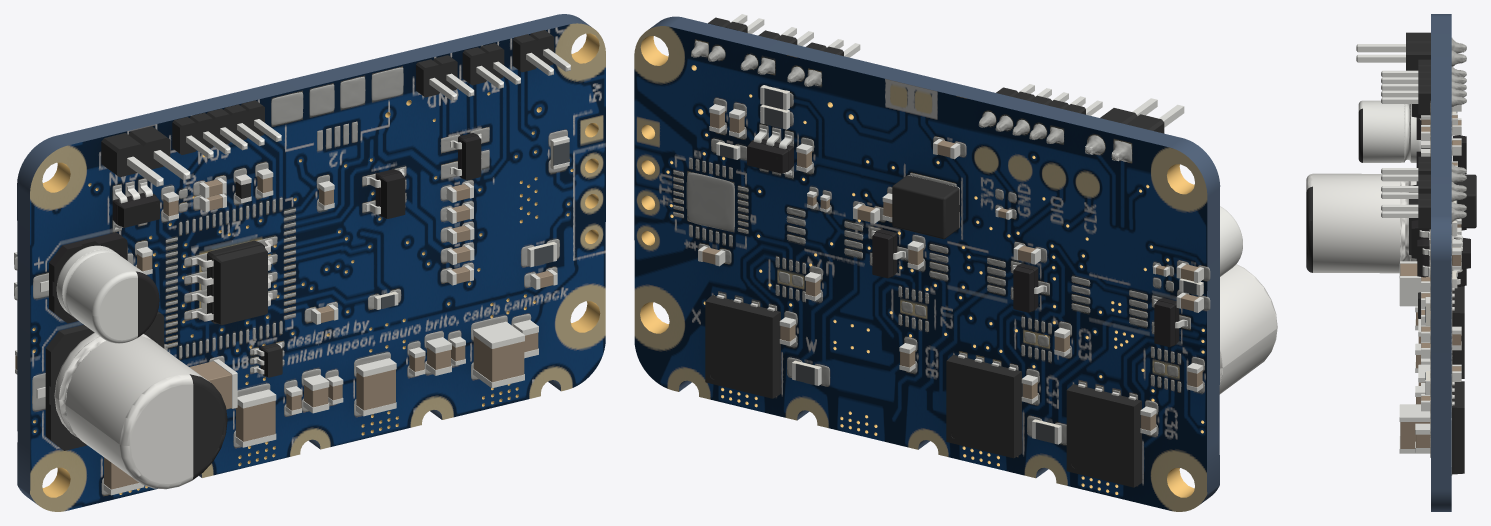
File: final bldc 1.glb
3 renders of one model, left to right at view 1: azimuth 30°, elevation 25°; view 2: azimuth 150°, elevation 25°; view 3: azimuth 270°, elevation 25°, orthographic. The views are drawn at different scales.
Parts seen in each view (by area): view 1: PCB_BLDC 3d, CP_Elec_8x10.001, CP_Elec_5x5.001, SOIC-8_3.9x4.9mm_P1.27mm.001, PinHeader_1x05_P1.27mm_Vertical.001, PinHeader_1x02_P2.00mm_Vertical.001, C_1210_3225Metric.003, C_1210_3225Metric.002, C_1210_3225Metric.005, PinHeader_1x02_P1.27mm_Vertical.003, PinHeader_1x02_P1.27mm_Vertical.001, PinHeader_1x02_P1.27mm_Vertical.002 (+12 smaller); view 2: PCB_BLDC 3d, TDSON-8-1.001, TDSON-8-1.003, TDSON-8-1.002, CP_Elec_8x10.001, L_Wuerth_MAPI-4020.001, SOLDER_TMC2209_LA_U14_71_0, SOT-23-6.001, PinHeader_1x02_P2.00mm_Vertical.001, SOT-23.001, SOT-23.002, SOT-23.003 (+2 smaller); view 3: PCB_BLDC 3d, CP_Elec_8x10.001, CP_Elec_5x5.001, PinHeader_1x05_P1.27mm_Vertical.001, PinHeader_1x02_P2.00mm_Vertical.001, TDSON-8-1.003, C_1210_3225Metric.003, PinHeader_1x02_P1.27mm_Vertical.003, C_1210_3225Metric.001, TDSON-8-1.001, PinHeader_1x02_P1.27mm_Vertical.002, L_Wuerth_MAPI-4020.001 (+9 smaller).
Boxes of the visible parts, box(x1,y1,x2,y2) form: PCB_BLDC 3d: box(17, 14, 605, 511); CP_Elec_8x10.001: box(36, 311, 227, 489); CP_Elec_5x5.001: box(40, 232, 159, 343); SOIC-8_3.9x4.9mm_P1.27mm.001: box(191, 239, 272, 325); PinHeader_1x05_P1.27mm_Vertical.001: box(172, 100, 281, 158); PinHeader_1x02_P2.00mm_Vertical.001: box(101, 126, 190, 186); C_1210_3225Metric.003: box(472, 321, 524, 388); C_1210_3225Metric.002: box(356, 358, 396, 416); C_1210_3225Metric.005: box(235, 389, 276, 447); PinHeader_1x02_P1.27mm_Vertical.003: box(512, 30, 570, 75); PinHeader_1x02_P1.27mm_Vertical.001: box(462, 43, 520, 88); PinHeader_1x02_P1.27mm_Vertical.002: box(416, 55, 474, 100); PCB_BLDC 3d: box(634, 16, 1220, 511); TDSON-8-1.001: box(946, 354, 1021, 458); TDSON-8-1.003: box(705, 295, 780, 398); TDSON-8-1.002: box(1066, 383, 1141, 487); CP_Elec_8x10.001: box(1219, 264, 1277, 394); L_Wuerth_MAPI-4020.001: box(892, 175, 959, 239); SOLDER_TMC2209_LA_U14_71_0: box(686, 172, 734, 231); SOT-23-6.001: box(747, 128, 793, 175); PinHeader_1x02_P2.00mm_Vertical.001: box(1085, 98, 1184, 161); SOT-23.001: box(1012, 263, 1046, 312); SOT-23.002: box(871, 229, 905, 278); SOT-23.003: box(1153, 298, 1187, 347); PCB_BLDC 3d: box(1431, 14, 1451, 511); CP_Elec_8x10.001: box(1306, 173, 1430, 273); CP_Elec_5x5.001: box(1358, 100, 1421, 167); PinHeader_1x05_P1.27mm_Vertical.001: box(1381, 59, 1430, 115); PinHeader_1x02_P2.00mm_Vertical.001: box(1356, 32, 1464, 70); TDSON-8-1.003: box(1451, 381, 1464, 474); C_1210_3225Metric.003: box(1399, 404, 1430, 453); PinHeader_1x02_P1.27mm_Vertical.003: box(1381, 193, 1430, 229); C_1210_3225Metric.001: box(1399, 261, 1430, 306); TDSON-8-1.001: box(1452, 286, 1464, 378); PinHeader_1x02_P1.27mm_Vertical.002: box(1381, 156, 1430, 181); L_Wuerth_MAPI-4020.001: box(1454, 174, 1476, 228).
Bounding box in the file's own units: 3.86 × 2.33 × 1.22.
23 materials, 1 textured.
